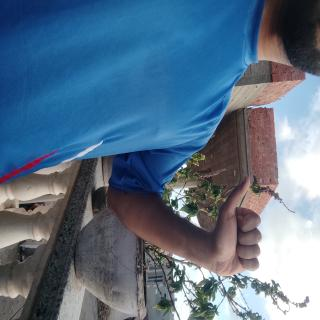DAD: (130, 68, 210, 160)
